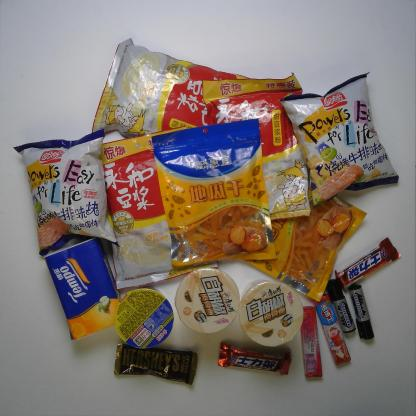Candy: (314, 294, 351, 364), (300, 305, 324, 379)
Chocolate: (115, 344, 197, 388), (334, 236, 400, 290), (215, 342, 291, 375)
Dried Fruit: (150, 119, 277, 278), (236, 171, 367, 303)
Instant Drink: (94, 125, 221, 288), (91, 36, 266, 154), (200, 74, 309, 222)
Instant Noodles: (239, 282, 305, 347), (175, 267, 238, 335), (113, 284, 174, 348)
Puffed Food: (282, 70, 400, 204), (13, 126, 122, 255)
Stationery: (326, 276, 354, 334), (348, 282, 375, 341)
Tissue: (43, 238, 127, 342)
